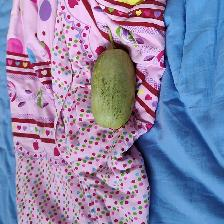gua: (90, 43, 130, 129)
